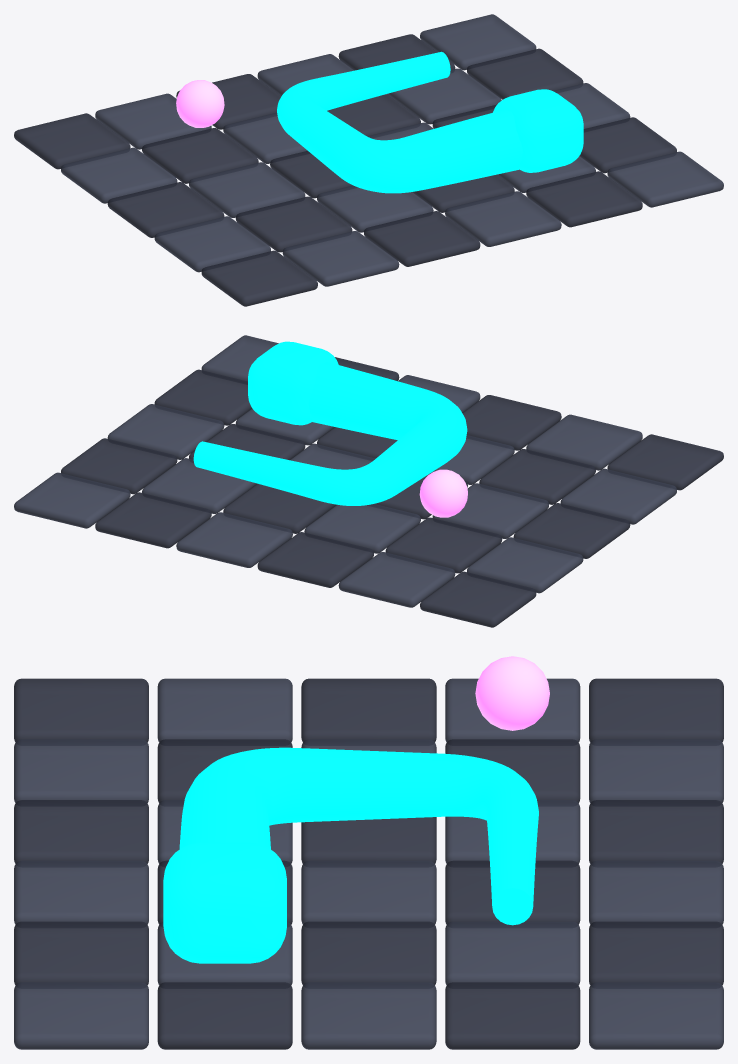
Rendered from coil-board-neon.glb.
3 renders of one model, top to bottom at view 1: azimuth 30°, elevation 25°; view 2: azimuth 150°, elevation 25°; view 3: azimuth 270°, elevation 25°, orthographic. The views are drawn at different scales.
Parts seen in each view (by area): view 1: Snake, Head, Tile_0_0, Tile_4_0, Tile_5_0, Tile_3_0, Tile_2_0, Tile_1_0, Tile_0_2, Tile_0_3, Tile_0_4, Tile_0_1 (+21 smaller); view 2: Snake, Head, Tile_0_4, Tile_4_4, Tile_5_4, Tile_3_4, Tile_2_4, Tile_1_4, Tile_0_2, Tile_0_0, Tile_0_1, Tile_0_3 (+21 smaller); view 3: Snake, Head, Tile_5_1, Tile_5_2, Tile_5_3, Tile_5_0, Tile_5_4, Tile_0_2, Tile_3_2, Tile_4_2, Tile_0_1, Tile_4_0 (+21 smaller).
Boxes of the visible parts, left/top/right/bottom form: Snake: left=277, top=51, right=522, bottom=193; Head: left=493, top=89, right=583, bottom=172; Tile_0_0: left=201, top=250, right=317, bottom=306; Tile_4_0: left=526, top=171, right=642, bottom=227; Tile_5_0: left=607, top=151, right=723, bottom=207; Tile_3_0: left=445, top=191, right=561, bottom=246; Tile_2_0: left=364, top=211, right=480, bottom=266; Tile_1_0: left=282, top=231, right=399, bottom=286; Tile_0_2: left=107, top=182, right=224, bottom=237; Tile_0_3: left=61, top=147, right=177, bottom=203; Tile_0_4: left=14, top=113, right=130, bottom=169; Tile_0_1: left=154, top=216, right=270, bottom=272; Snake: left=193, top=362, right=467, bottom=505; Head: left=248, top=341, right=338, bottom=425; Tile_0_4: left=420, top=571, right=536, bottom=627; Tile_4_4: left=95, top=492, right=211, bottom=548; Tile_5_4: left=14, top=472, right=130, bottom=528; Tile_3_4: left=176, top=512, right=292, bottom=567; Tile_2_4: left=257, top=532, right=373, bottom=587; Tile_1_4: left=338, top=552, right=455, bottom=607; Tile_0_2: left=513, top=503, right=630, bottom=558; Tile_0_0: left=607, top=434, right=723, bottom=490; Tile_0_1: left=560, top=468, right=676, bottom=524; Tile_0_3: left=467, top=537, right=583, bottom=593; Snake: left=179, top=747, right=538, bottom=925; Head: left=163, top=842, right=286, bottom=963; Tile_5_1: left=157, top=982, right=292, bottom=1049; Tile_5_2: left=301, top=982, right=436, bottom=1049; Tile_5_3: left=445, top=982, right=580, bottom=1049; Tile_5_0: left=14, top=982, right=148, bottom=1049; Tile_5_4: left=589, top=982, right=723, bottom=1049; Tile_0_2: left=301, top=678, right=436, bottom=742; Tile_3_2: left=301, top=860, right=436, bottom=924; Tile_4_2: left=301, top=921, right=436, bottom=985; Tile_0_1: left=157, top=678, right=292, bottom=742; Tile_4_0: left=14, top=921, right=148, bottom=985.
Size of the model in its own units: 5.94 by 0.93 by 4.94.
